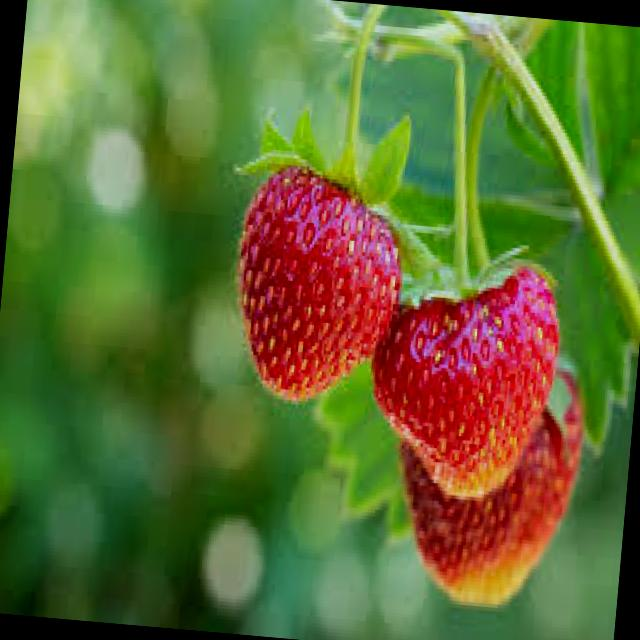strawberry: (222, 119, 418, 412), (362, 231, 554, 486)
